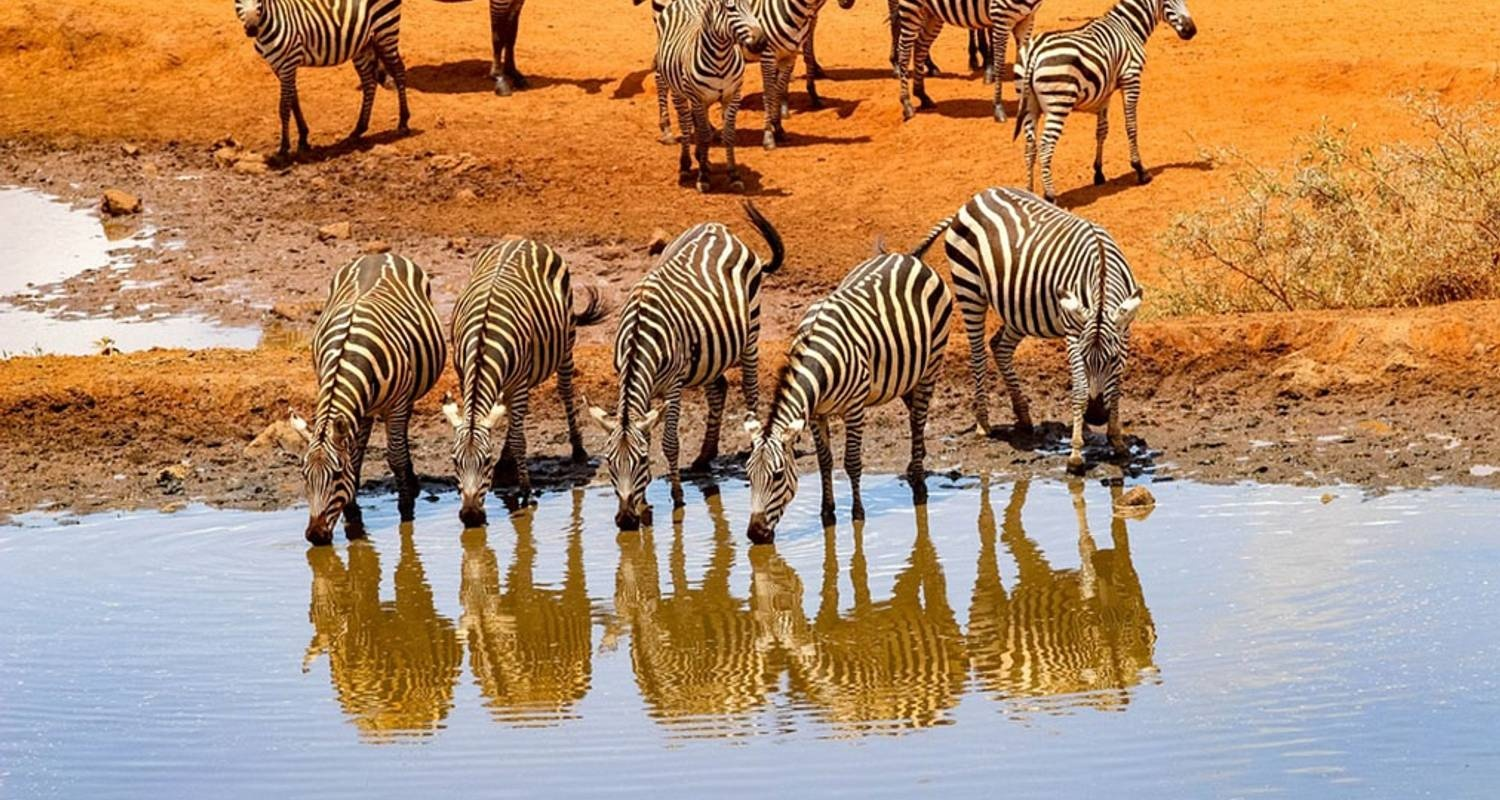zebra: (738, 236, 956, 545), (940, 180, 1156, 474), (589, 218, 781, 536), (285, 241, 446, 550), (444, 227, 606, 531), (1010, 1, 1203, 209), (228, 1, 420, 162), (648, 1, 771, 198)
